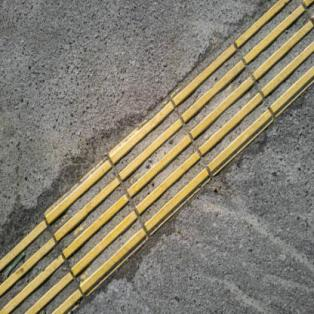Podoctatil: (1, 0, 314, 310)
